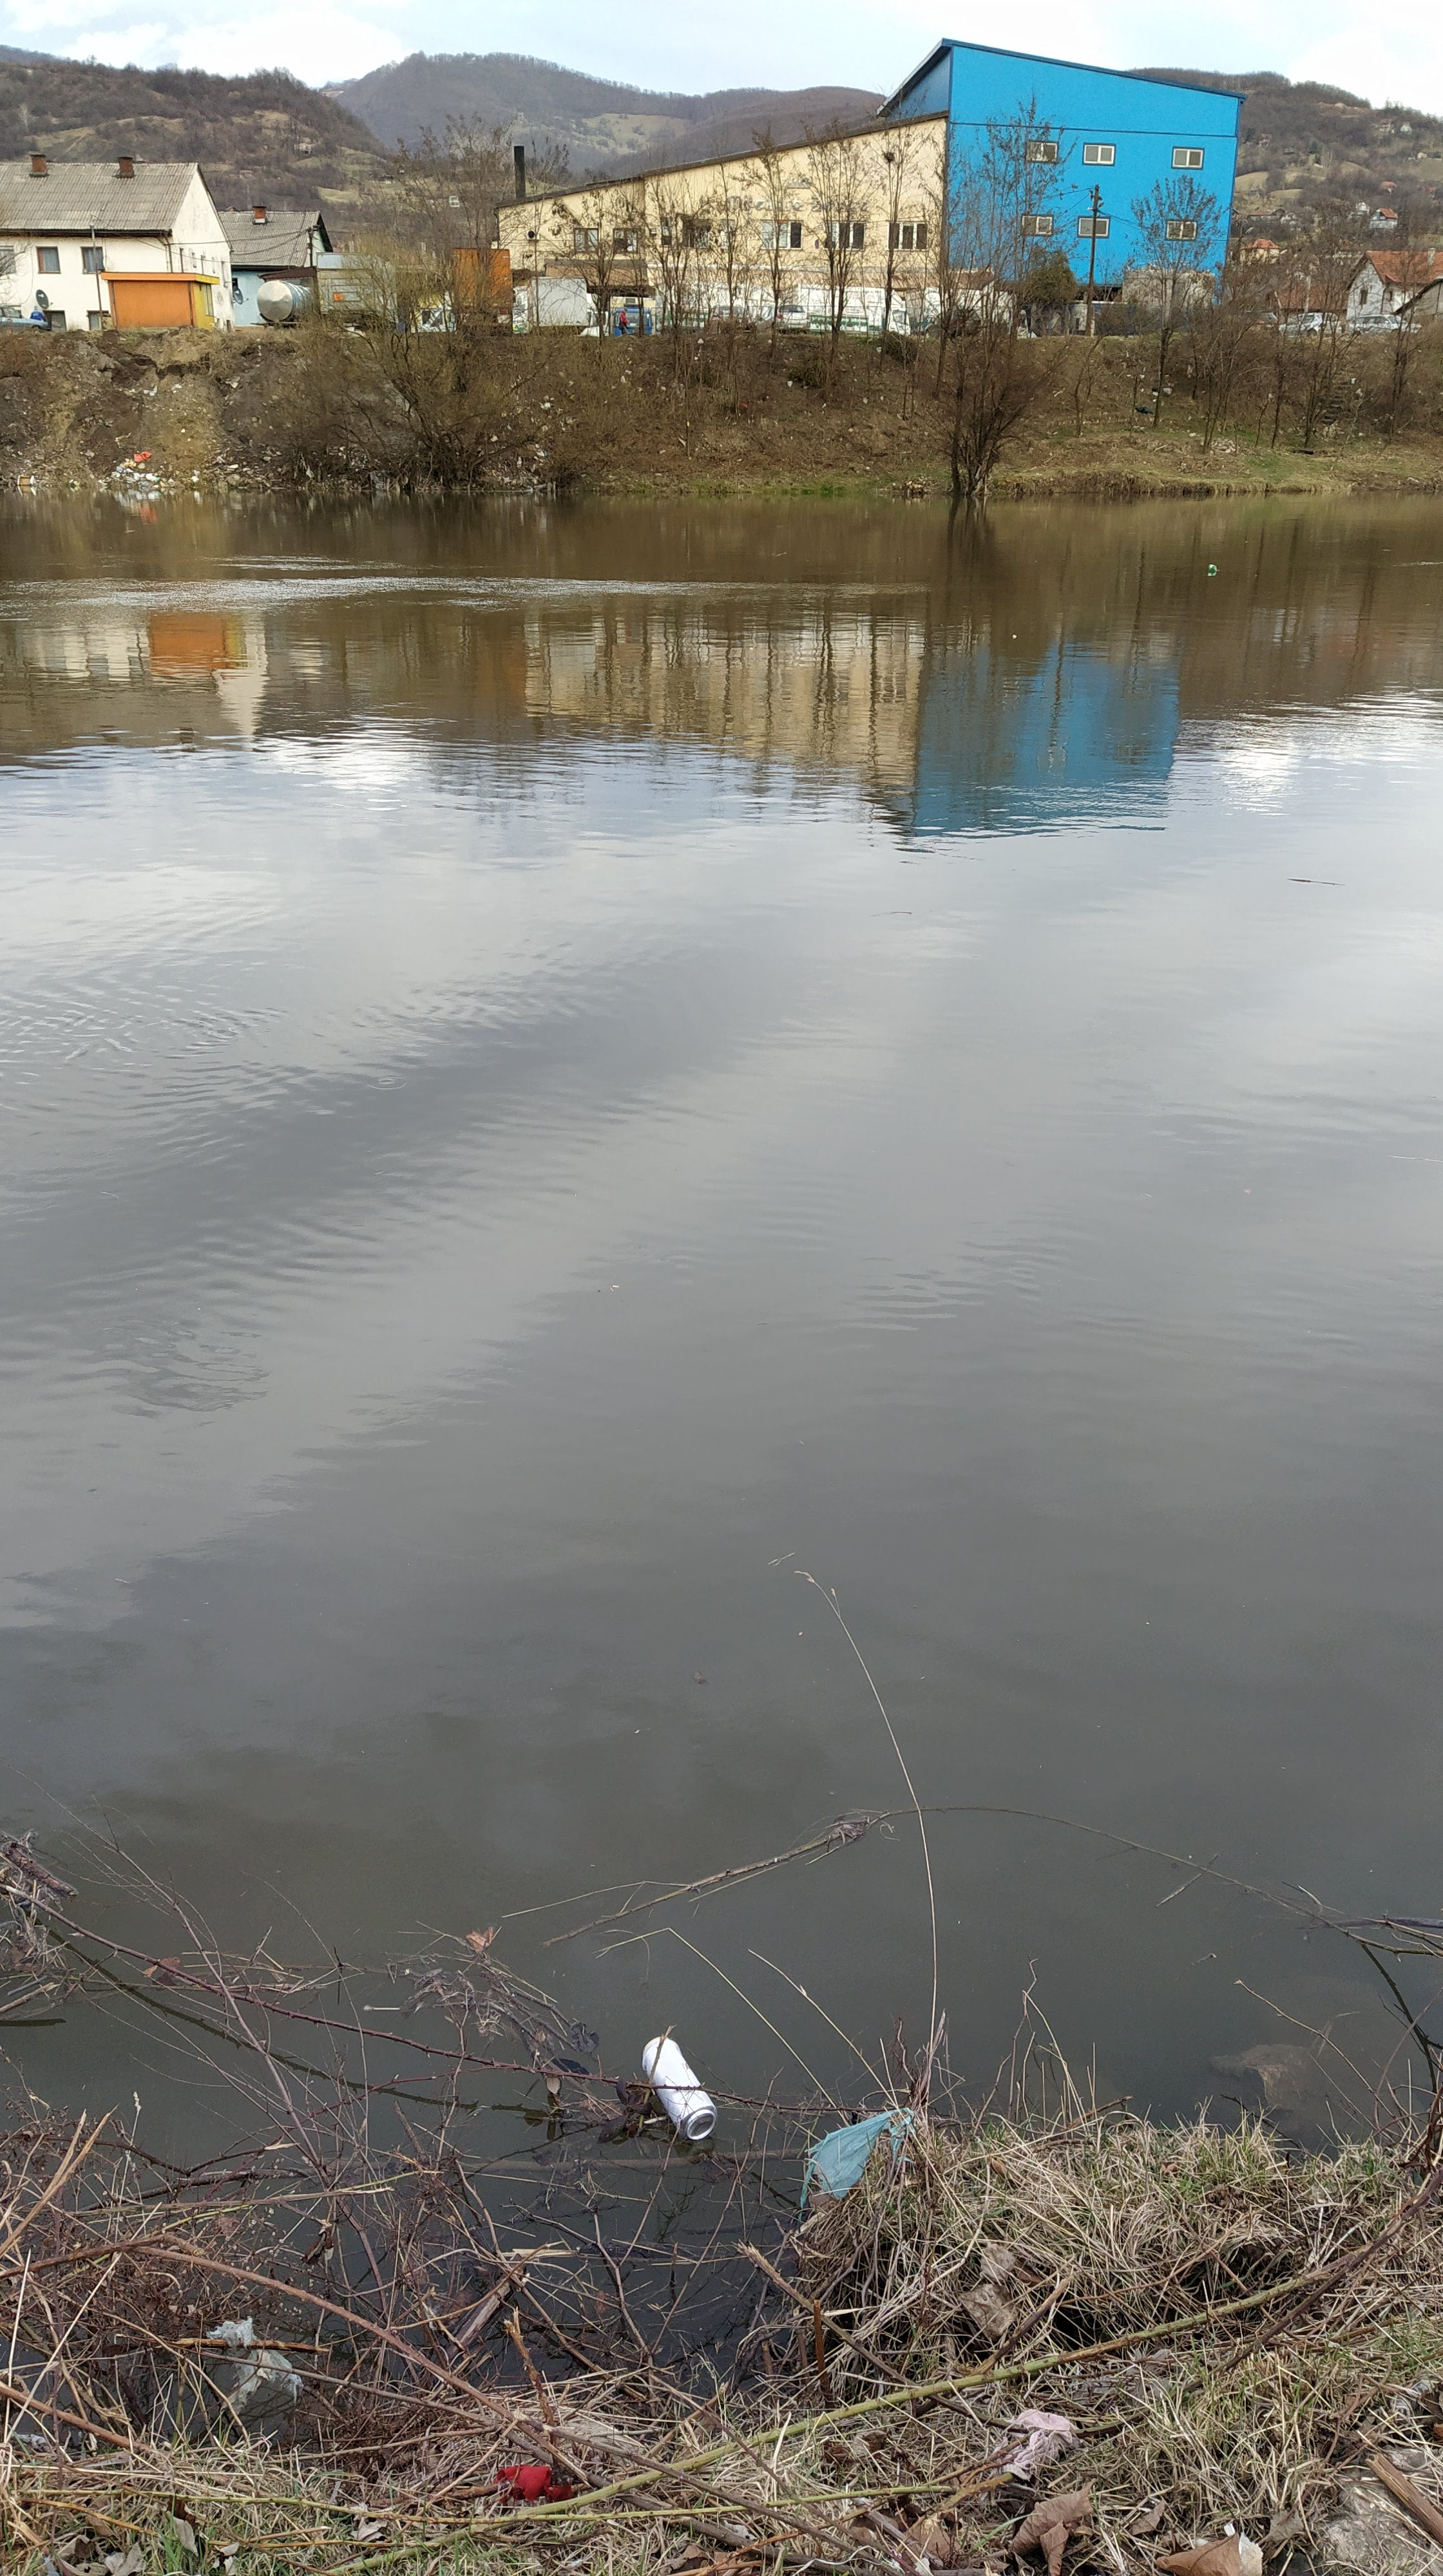Plastic Bottle: (1208, 564, 1218, 573)
